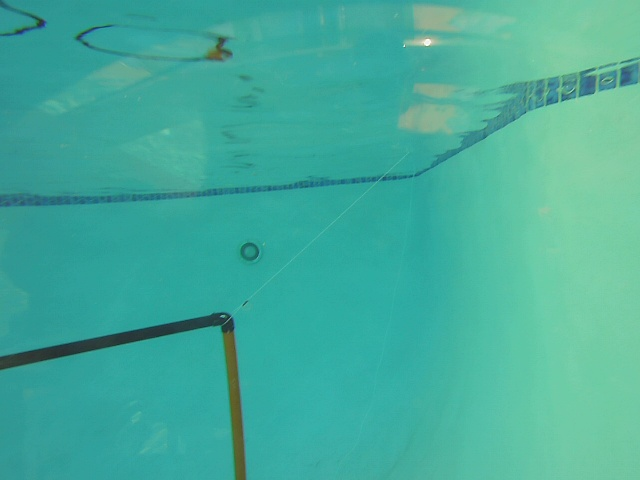Gate: (220, 326, 247, 480)
